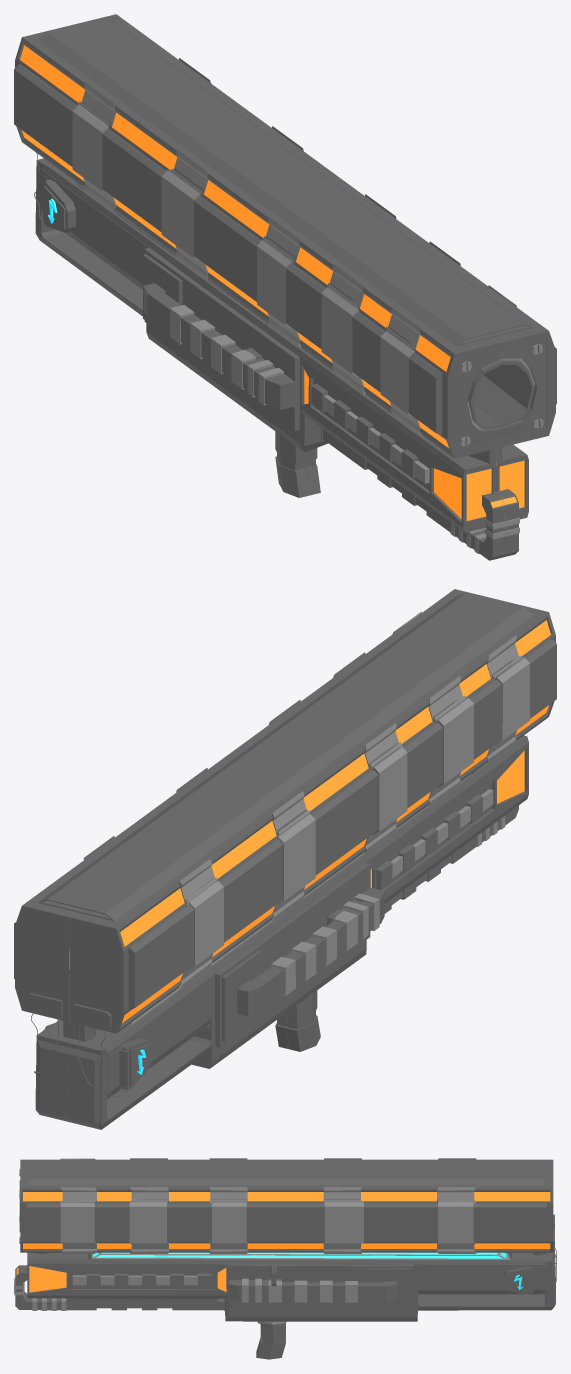
The model's file is RO-ZERO.fbx.
3 renders of one model, top to bottom at view 1: azimuth 30°, elevation 25°; view 2: azimuth 150°, elevation 25°; view 3: azimuth 270°, elevation 25°, orthographic. The views are drawn at different scales.
Parts seen in each view (by area): view 1: Cube.001; view 2: Cube.001; view 3: Cube.001.
Boxes of the visible parts, <box> form: Cube.001: <box>14,14,556,560</box>; Cube.001: <box>14,589,556,1129</box>; Cube.001: <box>14,1158,556,1359</box>.
Size of the model in its own units: 0.2963 by 0.6747 by 1.8.
1 material, 1 textured.
